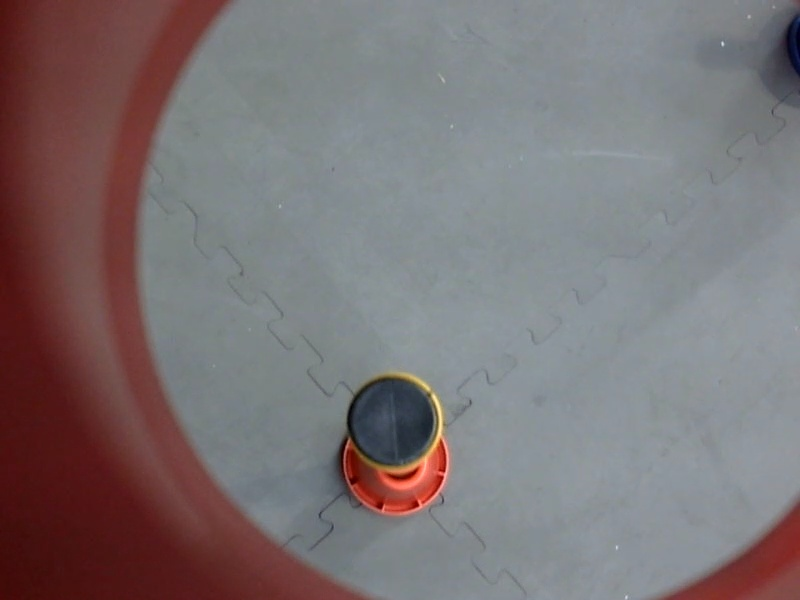tip: (341, 367, 457, 474)
